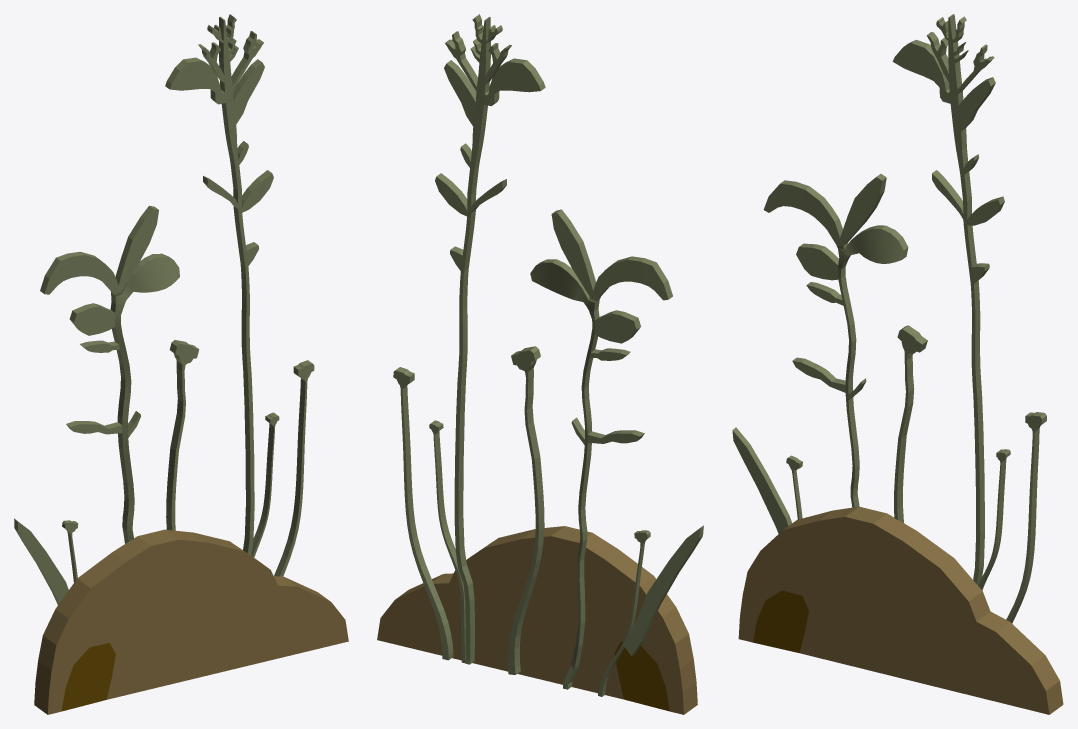
Rendered from Leaves_2.fbx.
3 views of the same model, side by side, from view 1: azimuth 30°, elevation 25°; view 2: azimuth 150°, elevation 25°; view 3: azimuth 330°, elevation 25° (orthographic). The views are drawn at different scales.
Visible parts, largest first — view 1: pPlane21, pPlane24, pPlane26, pPlane28, pPlane22, pPlane27, pPlane23; view 2: pPlane21, pPlane24, pPlane26, pPlane28, pPlane22, pPlane27, pPlane23, pPlane25; view 3: pPlane21, pPlane24, pPlane26, pPlane28, pPlane22, pPlane27, pPlane23.
Boxes of the visible parts, x1,y1,x2,y2 form: pPlane21: (34,529,348,714); pPlane24: (165,14,273,555); pPlane26: (40,205,179,543); pPlane28: (166,340,199,530); pPlane22: (274,360,314,576); pPlane27: (14,518,68,604); pPlane23: (251,412,279,557); pPlane21: (377,526,697,714); pPlane24: (435,14,545,664); pPlane26: (530,209,672,689); pPlane28: (507,346,544,674); pPlane22: (393,367,453,660); pPlane27: (623,525,703,656); pPlane23: (429,420,465,662); pPlane25: (598,530,650,696); pPlane21: (738,506,1063,714); pPlane24: (892,14,1004,584); pPlane26: (763,174,908,507); pPlane28: (894,325,927,522); pPlane22: (1006,412,1046,623); pPlane27: (732,427,791,533); pPlane23: (978,449,1010,590).
Bounding box in the file's own units: 1.4 × 2.68 × 0.1528.
